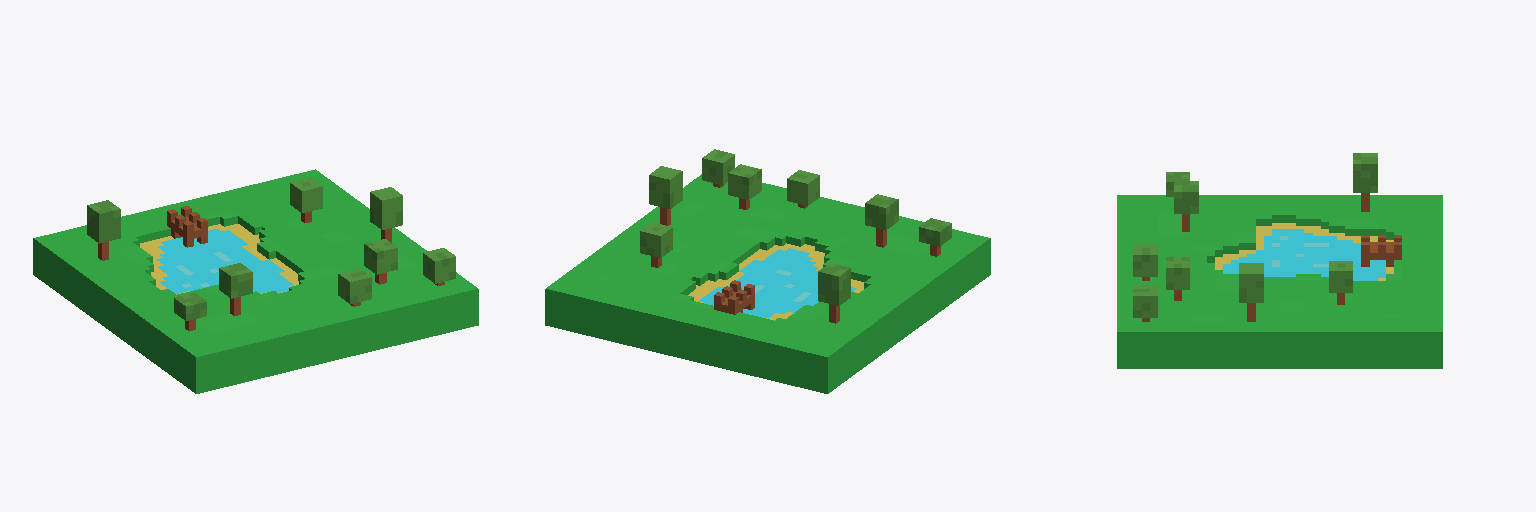
3 renders of one model, left to right at view 1: azimuth 30°, elevation 25°; view 2: azimuth 150°, elevation 25°; view 3: azimuth 270°, elevation 25°, orthographic.
Parts seen in each view (by area): view 1: object 1; view 2: object 1; view 3: object 1.
Part boxes in pixels (x1,y1,x2,y2): object 1: (33,169,478,393); object 1: (545,149,990,393); object 1: (1117,153,1442,368).
Bounding box in the file's own units: 4 × 1.2 × 4.
1 materials, 1 textured.